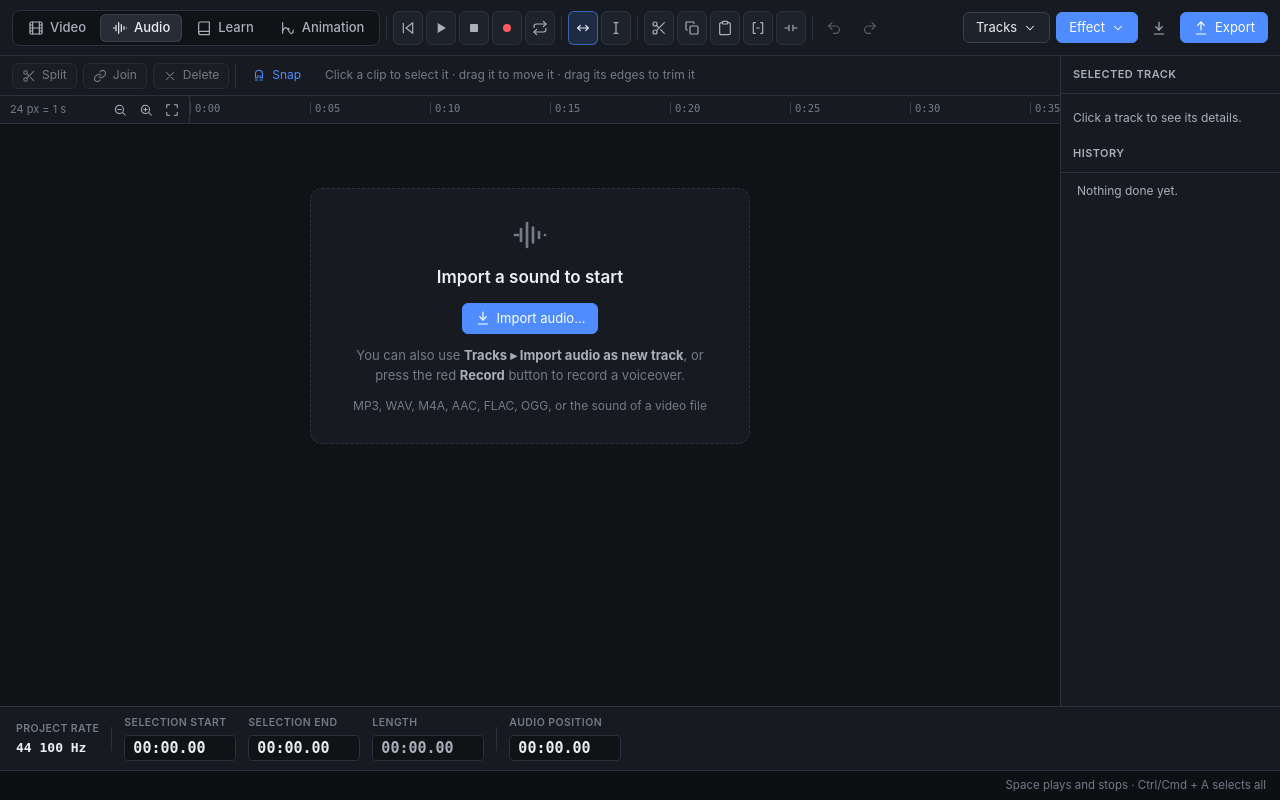
it: audio export dialog › opens from the Audio toolbar’s Export button
Expected: the element named "Audio tools" is shown, [393,10,555,44]
Click the button "Export" at (1224, 28), box [1180,12,1268,43]
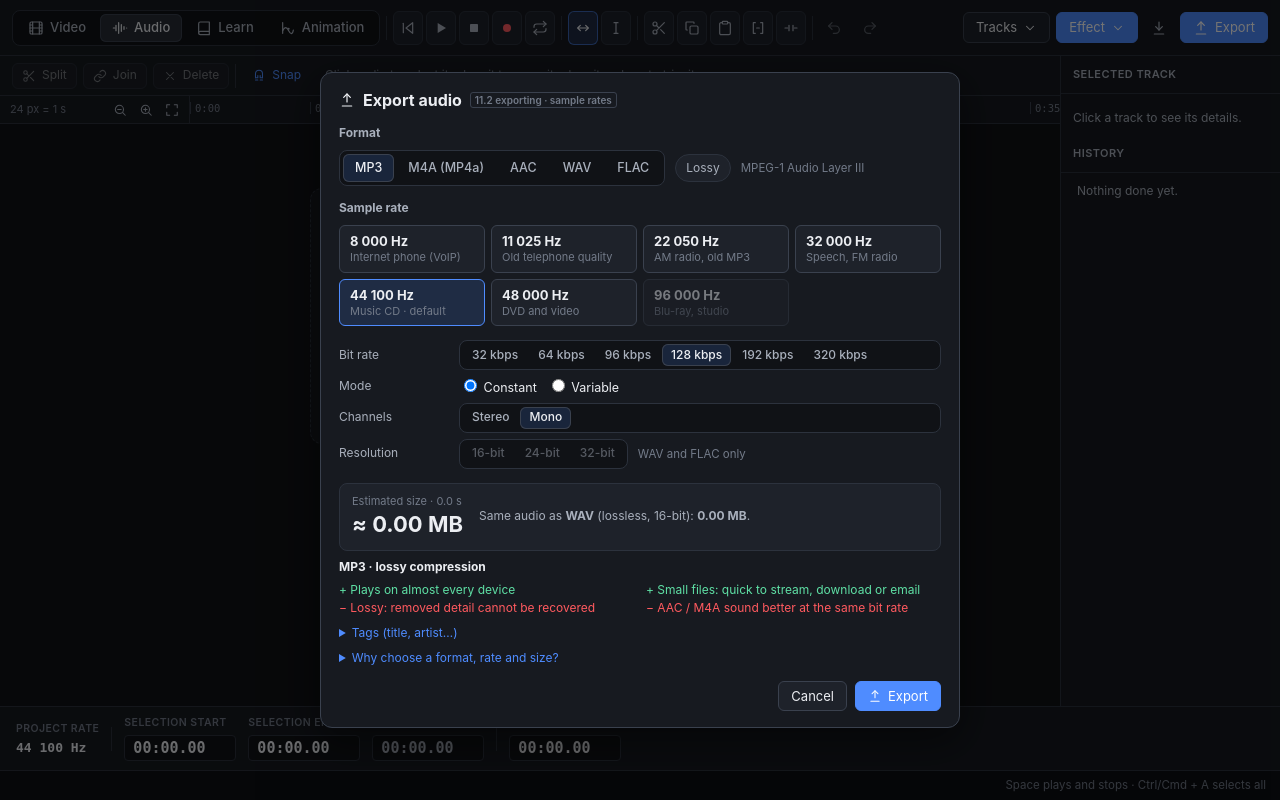
Result: the dialog "Export audio" is shown at [320,72,960,728]
